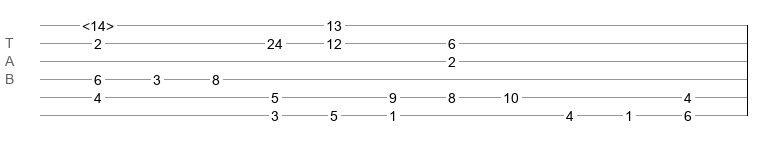1: (389, 108, 397, 118), (625, 108, 633, 118)
10: (503, 90, 519, 100)
12: (326, 36, 342, 46)
13: (326, 18, 342, 28)
2: (94, 36, 102, 46), (448, 54, 456, 64)
24: (267, 36, 283, 46)
3: (153, 72, 161, 82), (271, 108, 279, 118)
4: (94, 90, 102, 100), (566, 108, 574, 118), (684, 90, 692, 100)
5: (271, 90, 279, 100), (330, 108, 338, 118)
6: (94, 72, 102, 82), (448, 36, 456, 46), (684, 108, 692, 118)
8: (212, 72, 220, 82), (448, 90, 456, 100)
9: (389, 90, 397, 100)
harmonic: (82, 18, 114, 28)
